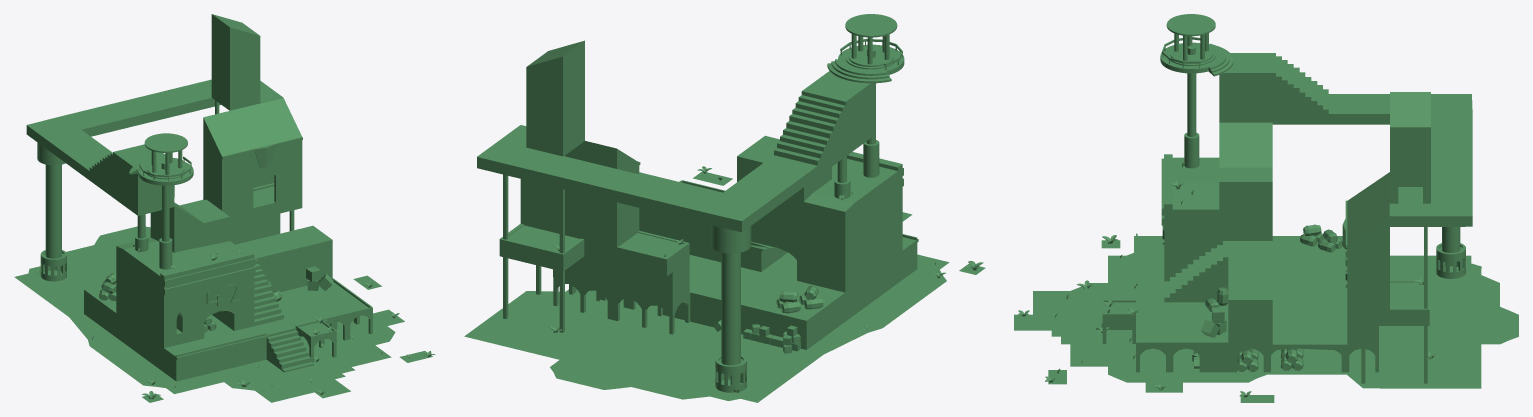
Rendered from Level1Design.fbx.
The picture shows the model from 3 angles, left to right: view 1: azimuth 30°, elevation 25°; view 2: azimuth 150°, elevation 25°; view 3: azimuth 270°, elevation 25°; orthographic projection. The views are drawn at different scales.
Visible parts, largest first — view 1: Cube; view 2: Cube; view 3: Cube.
Boxes of the visible parts, x1,y1,x2,y2 form: Cube: [14, 14, 435, 402]; Cube: [464, 14, 985, 402]; Cube: [1014, 14, 1518, 402].
Bounding box in the file's own units: 2594 × 1965 × 3386.
